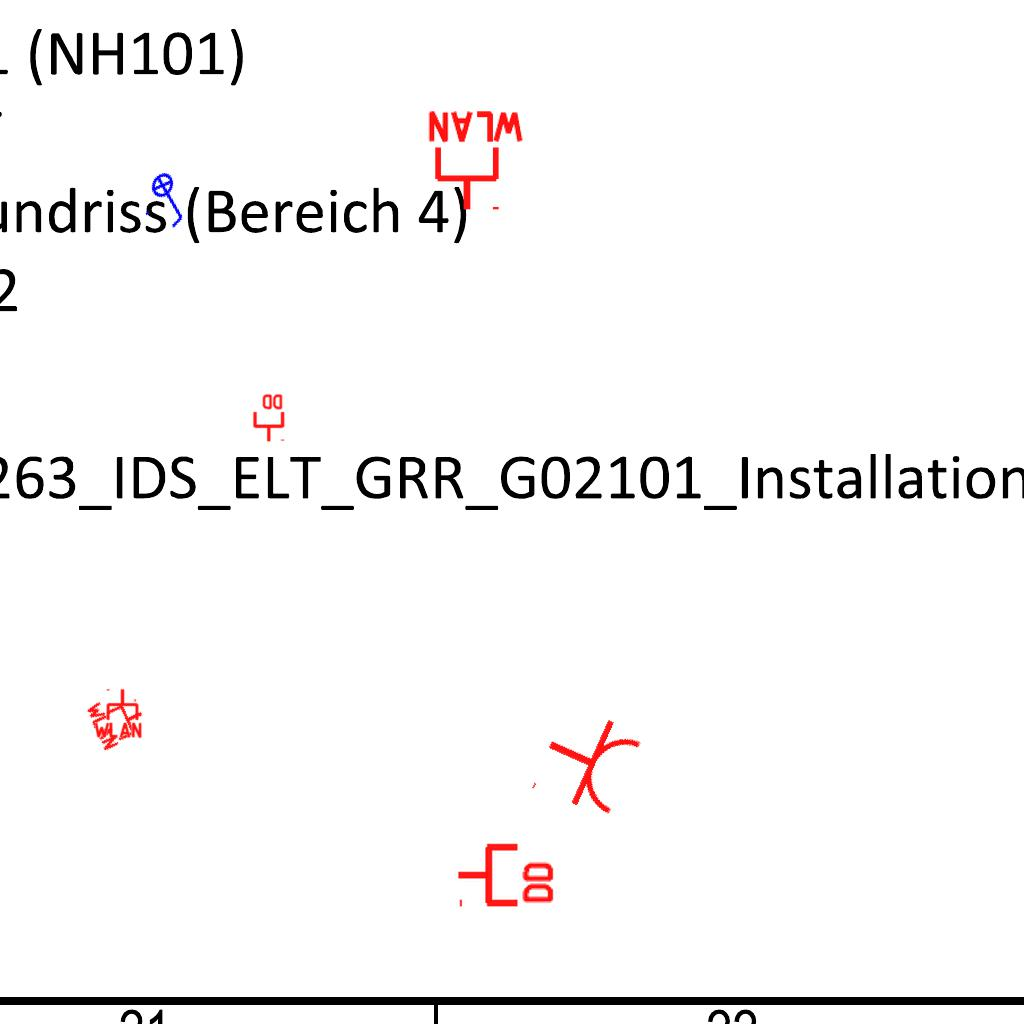Ausschalter_beleuchtet: (135, 163, 205, 235)
Datenanschluss_zweifach: (455, 839, 558, 908), (251, 392, 285, 443)
Schukosteckdose_einfach: (527, 699, 648, 827)
WLAN: (424, 109, 528, 214), (83, 684, 153, 754), (92, 687, 144, 739)
